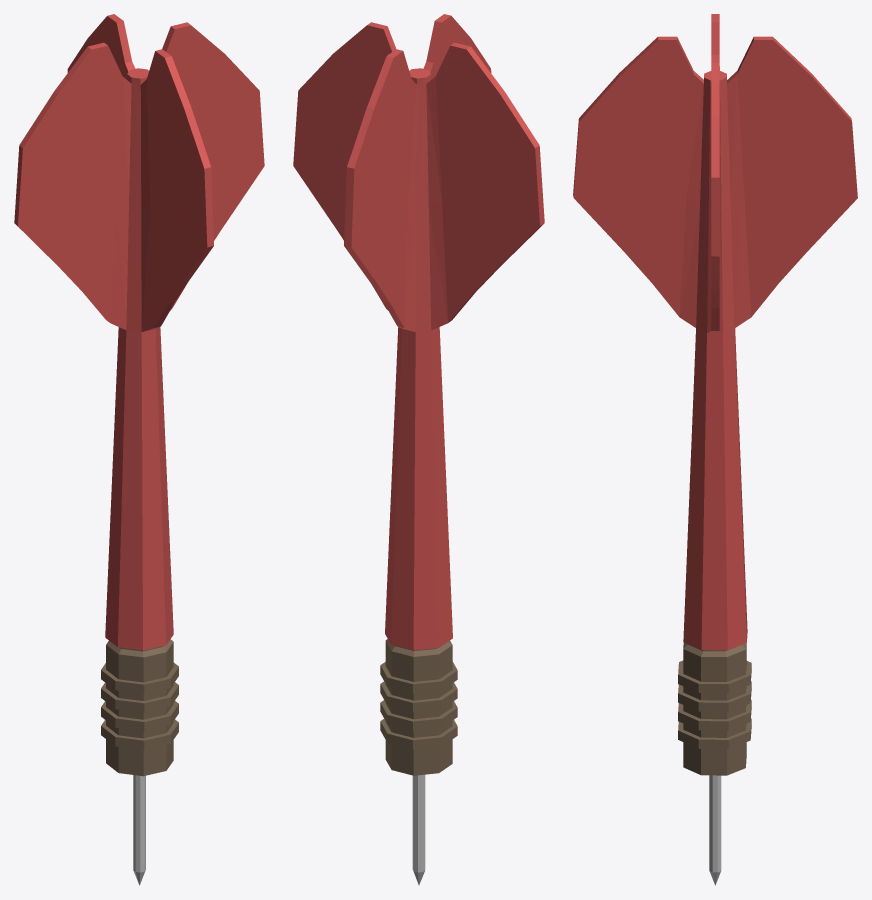
The model's file is dart.obj.
The picture shows the model from 3 angles, left to right: view 1: azimuth 30°, elevation 25°; view 2: azimuth 150°, elevation 25°; view 3: azimuth 270°, elevation 25°; orthographic projection.
Visible parts, largest first — view 1: Layer_0; view 2: Layer_0; view 3: Layer_0.
Boxes of the visible parts, <box> form: Layer_0: <box>14,14,264,885</box>; Layer_0: <box>293,14,544,885</box>; Layer_0: <box>573,14,857,885</box>.
Size of the model in its own units: 4.14 by 13.6 by 4.14.
